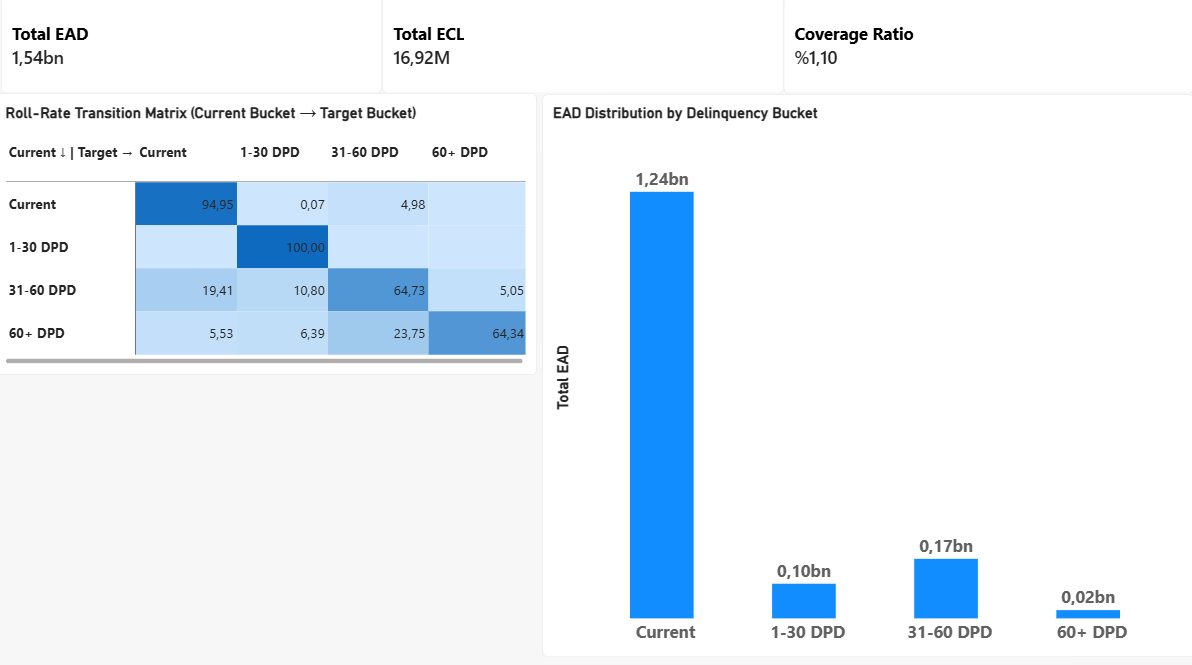

Layout of this report page (visuals, bound fields, positions):
{"tool":"powerbi","page":{"name":"IFRS 9 Risk Analizi","canvas":[1920,1080],"ordinal":0},"visuals":[{"type":"cardVisual","fields":{"Data":["Sum(fact_ecl.ead)"]},"box":[10.3,0,609.3,154.4],"z":0},{"type":"cardVisual","fields":{"Data":["Sum(fact_ecl.ecl)"]},"box":[619.6,0,642.2,154.4],"z":1},{"type":"cardVisual","fields":{"Data":["fact_ecl.Coverage_Ratio"]},"box":[1261.8,0,658.7,154.4],"z":2},{"type":"pivotTable","title":"Geçiş Matrisi (Mevcut Kova → Hedef Kova)","fields":{"Columns":["dim_next_bucket.next_bucket_name"],"Rows":["dim_risk_bucket.bucket_name"],"Values":["Sum(fact_transition_matrix.transition_rate)"]},"box":[0,154,866,450],"z":3},{"type":"columnChart","title":"Risk Kovalarına Göre EAD Dağılımı","fields":{"Category":["dim_risk_bucket.bucket_name"],"Y":["Sum(fact_ecl.ead)"]},"box":[876,156,1044,900],"z":4}]}

Visuals, with their boxes in screenshot pixels (x1, y1, x2, y2), scaled from the page's 1920x1080 canvas onto the 1192x665 screenshot:
cardVisual - Sum(fact_ecl.ead): bbox=(6, 0, 385, 95)
cardVisual - Sum(fact_ecl.ecl): bbox=(385, 0, 783, 95)
cardVisual - fact_ecl.Coverage_Ratio: bbox=(783, 0, 1191, 95)
"Geçiş Matrisi (Mevcut Kova → Hedef Kova)" pivotTable: bbox=(0, 95, 538, 372)
"Risk Kovalarına Göre EAD Dağılımı" columnChart: bbox=(544, 96, 1191, 650)
